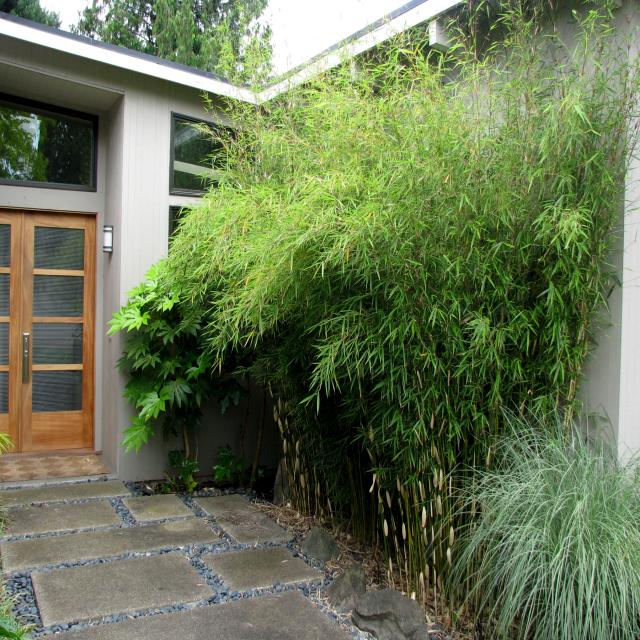Clumping: (232, 65, 636, 613)
